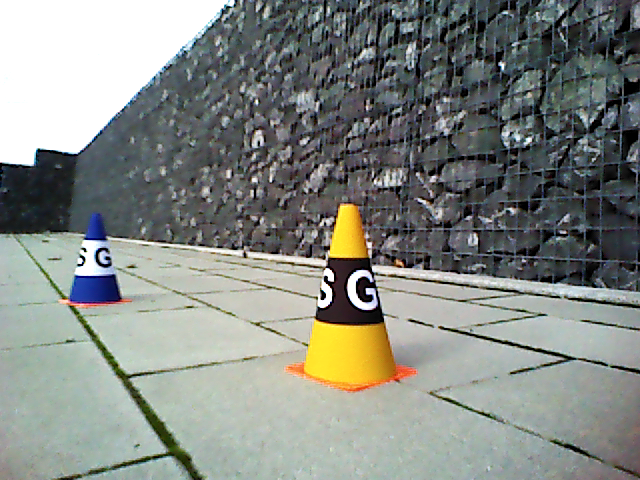bluecone: (69, 211, 125, 305)
yellowcone: (305, 202, 399, 383)
